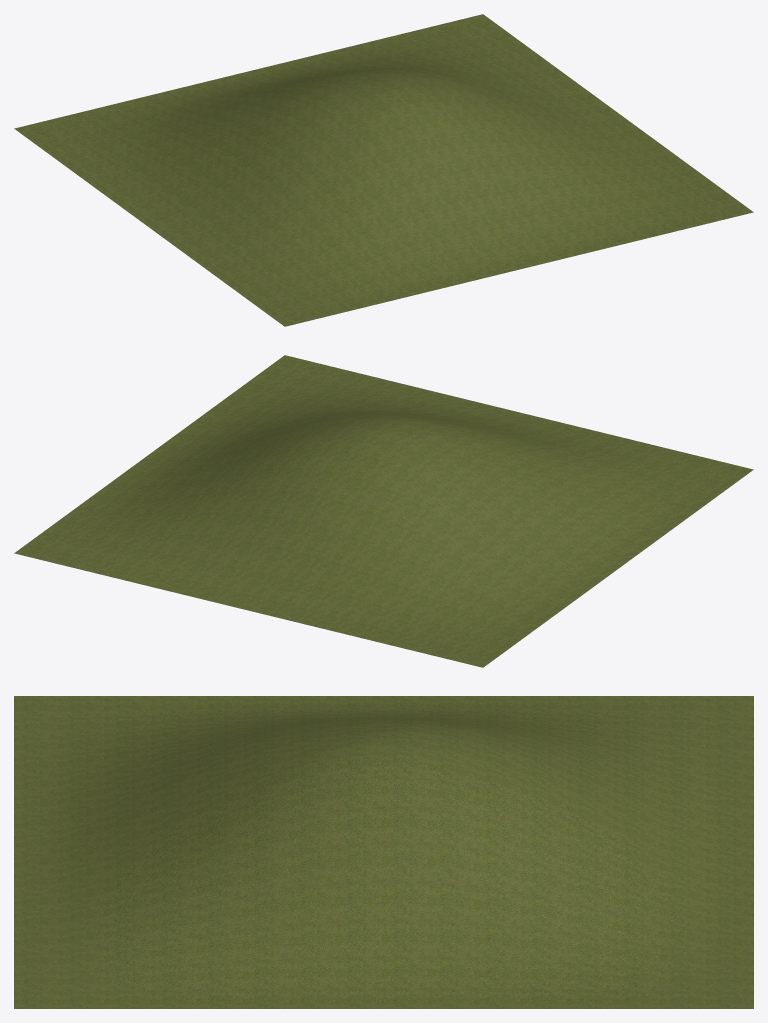
The model's file is terrain_hill.glb.
3 views of the same model, one above another, from view 1: azimuth 30°, elevation 25°; view 2: azimuth 150°, elevation 25°; view 3: azimuth 270°, elevation 25° (orthographic). The views are drawn at different scales.
Parts seen in each view (by area): view 1: terrain_hill; view 2: terrain_hill; view 3: terrain_hill.
Part boxes in pixels (x1,y1,x2,y2): terrain_hill: (14, 14, 753, 326); terrain_hill: (14, 355, 753, 667); terrain_hill: (14, 696, 753, 1008).
Bounding box in the file's own units: 64 × 9.84 × 64.
